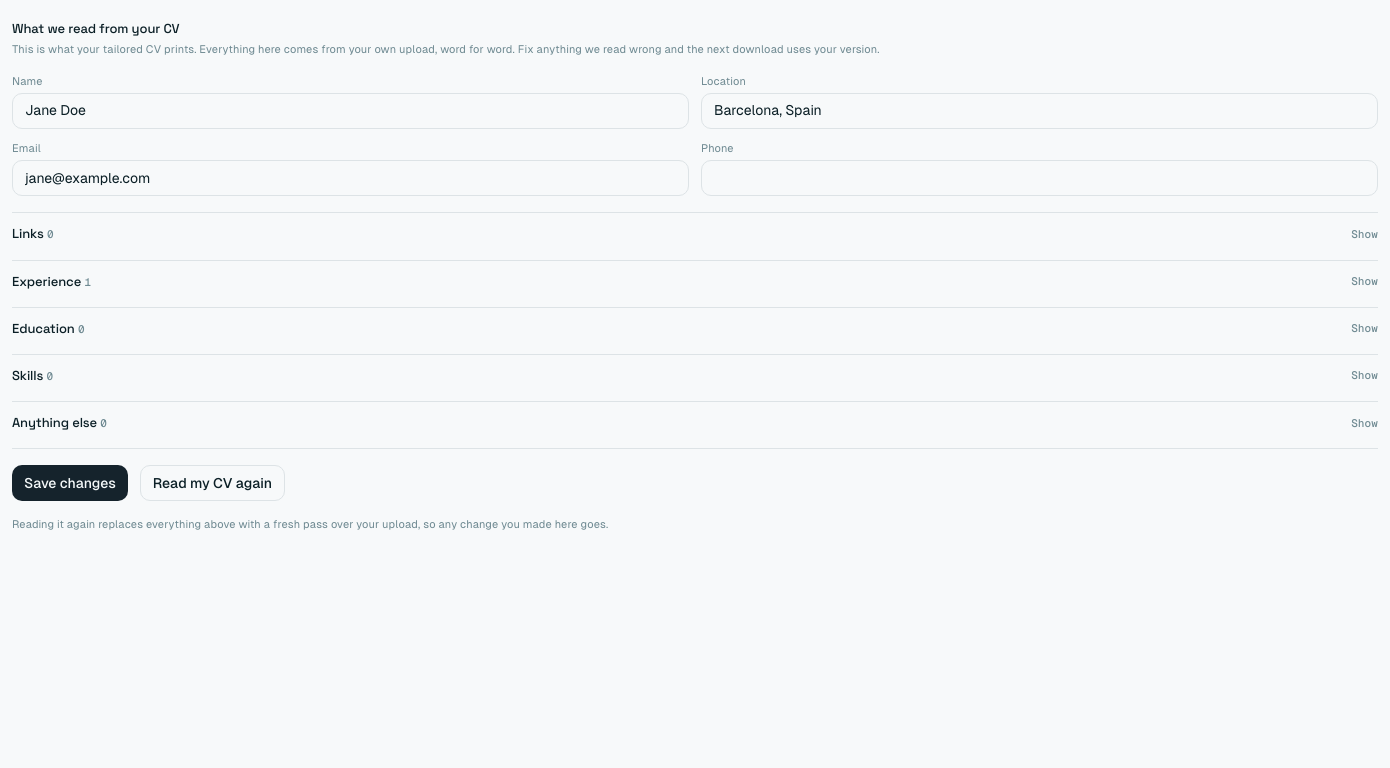
it: CvEditor › a failed save says so, and keeps the edit on screen
The width and height of the screenshot is (1390, 768).
Step 1. Replace the text in the field showing "Jane Doe" with "Jane R. Doe" → [350, 111], box [12,93,689,129]
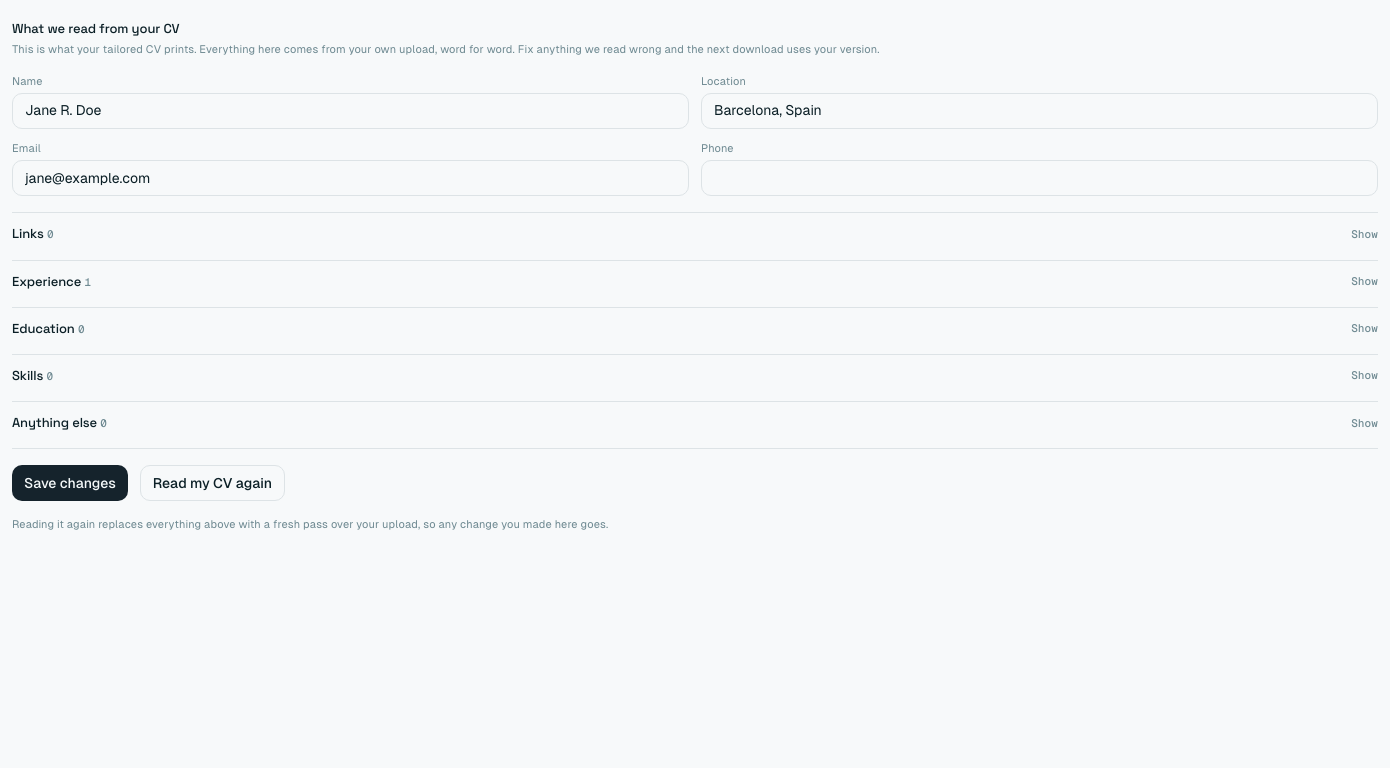
Step 2. Click the button "Save changes" → [70, 483], box [12,465,128,501]
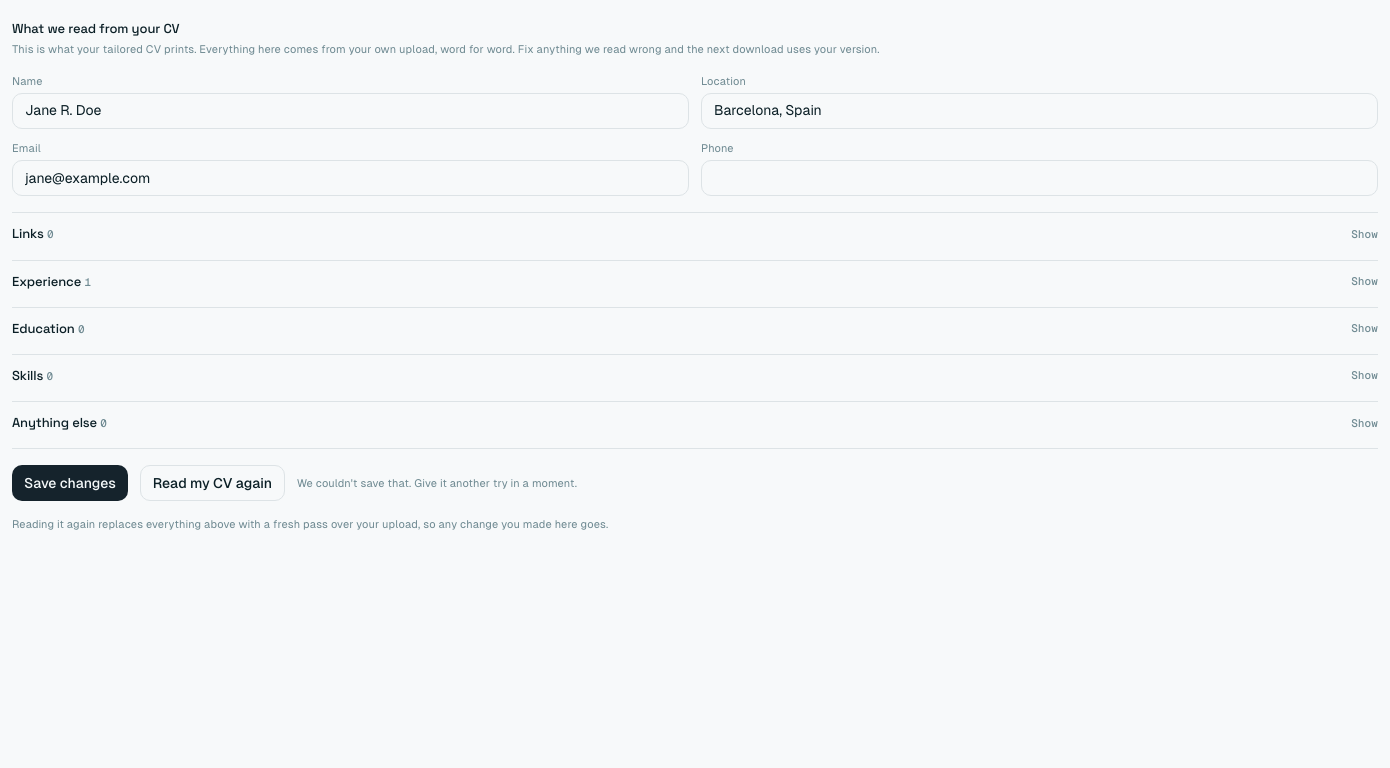
Now the text "We couldn't save that. Give it another try in a moment." is shown, box [297,476,577,491]
